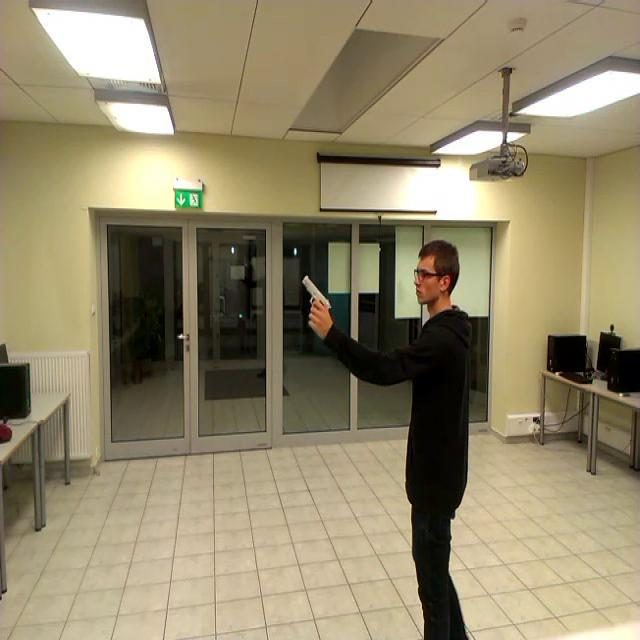Gun: (303, 274, 333, 322)
